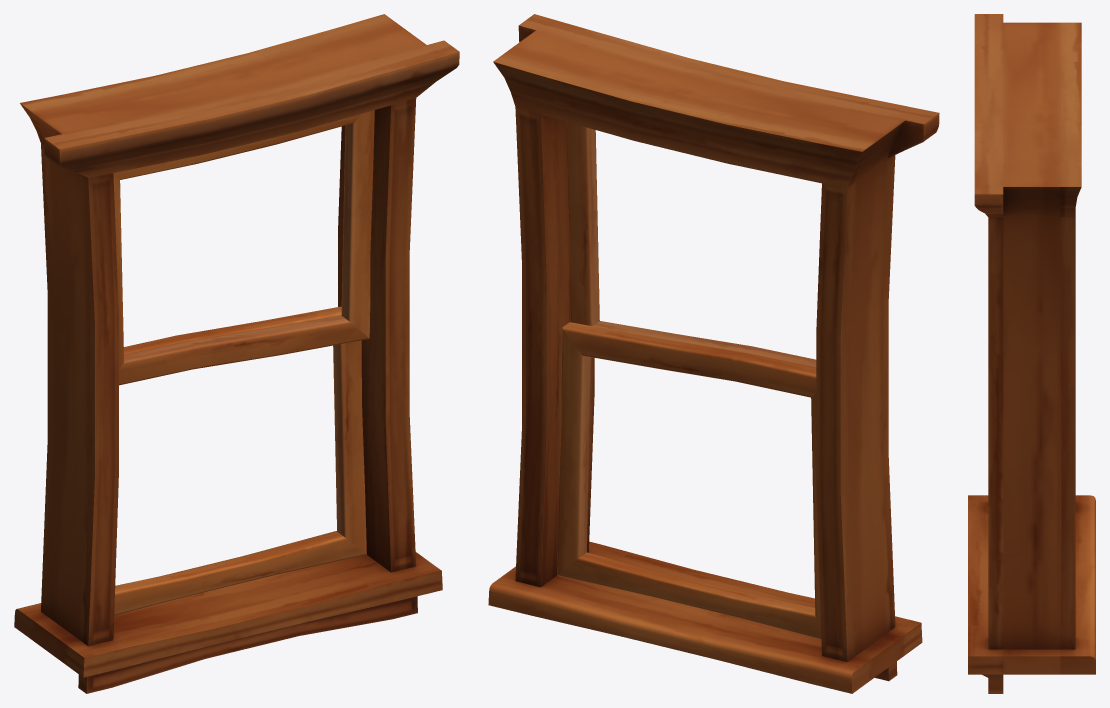
The model's file is PropWindow01TypeA_2_2.FBX.
3 views of the same model, side by side, from view 1: azimuth 30°, elevation 25°; view 2: azimuth 150°, elevation 25°; view 3: azimuth 270°, elevation 25° (orthographic). The views are drawn at different scales.
Visible parts, largest first — view 1: PropWindow01TypeA_2_2; view 2: PropWindow01TypeA_2_2; view 3: PropWindow01TypeA_2_2.
Part boxes in pixels (left/top/right/bottom): PropWindow01TypeA_2_2: left=14, top=14, right=459, bottom=693; PropWindow01TypeA_2_2: left=488, top=14, right=939, bottom=693; PropWindow01TypeA_2_2: left=968, top=14, right=1095, bottom=693.
Size of what is drawn, in the model's own units: 1.48 by 1.98 by 0.4449.
